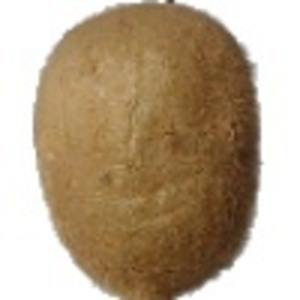kiwi: (32, 1, 262, 300)
